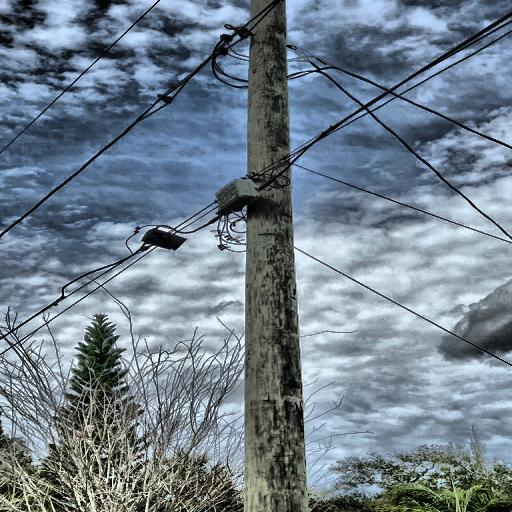pole: (230, 0, 325, 512)
